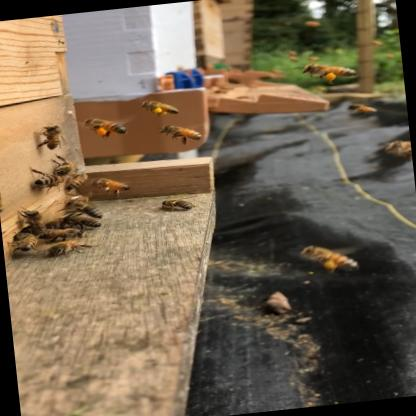bee: (60, 88, 211, 158), (2, 151, 138, 213), (5, 192, 121, 258), (281, 221, 369, 282), (66, 98, 144, 148), (287, 48, 365, 92), (143, 177, 212, 222), (127, 87, 194, 120), (150, 110, 210, 146), (368, 128, 413, 170), (26, 114, 76, 151), (0, 164, 31, 222), (148, 191, 198, 220)
